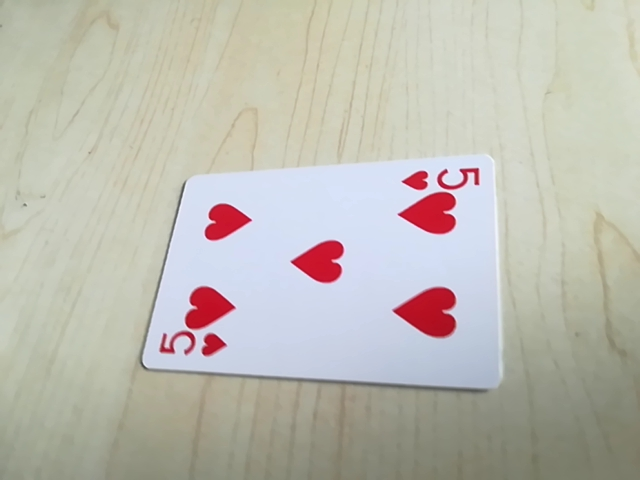hx 5: (398, 159, 484, 195), (156, 328, 232, 365)
